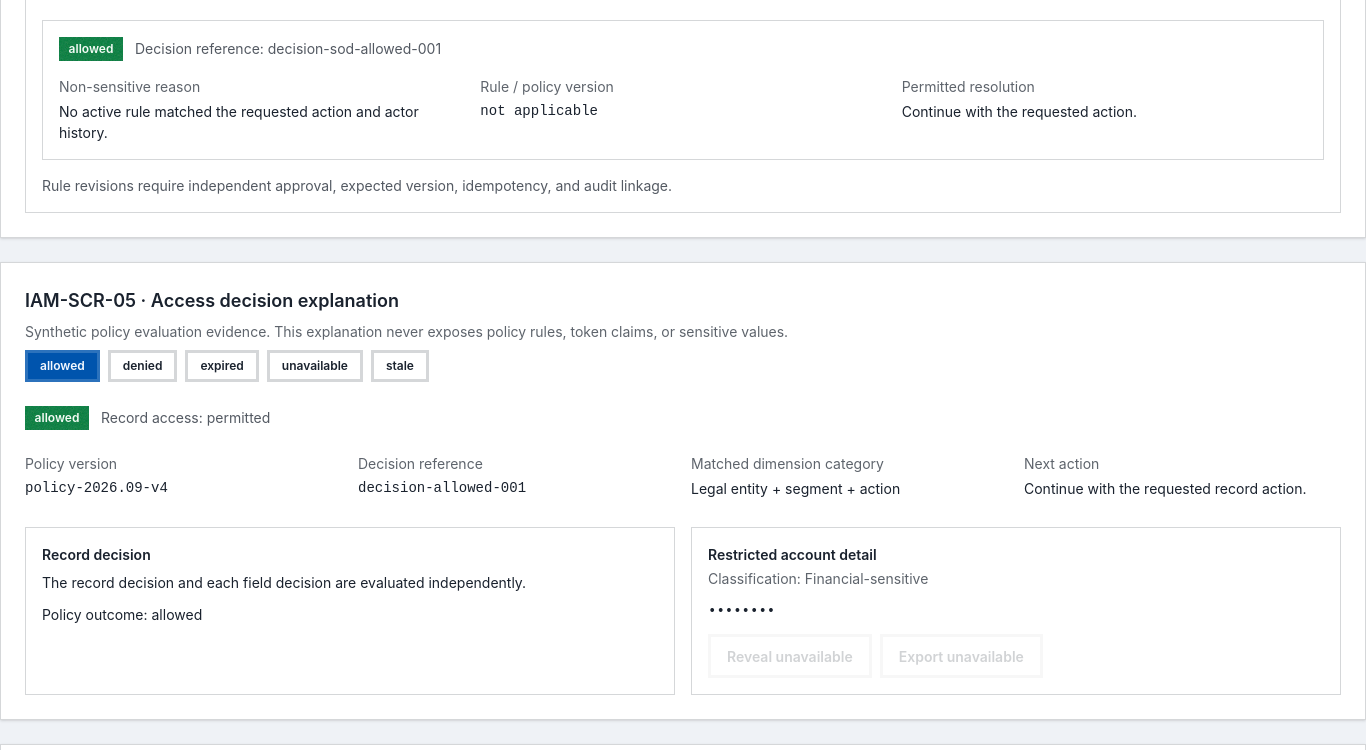
Test: identity access workspace › explains distinct scoped access outcomes and keeps field access independent
The width and height of the screenshot is (1366, 750).
(page scrolled)
Expected: the heading "IAM-SCR-05 · Access decision explanation" is shown, [25,290,399,311]
Expected: the text "policy-2026.09-v4" is shown, [25,480,168,496]
Click the button "stale" at (400, 366), box [371,350,429,382]
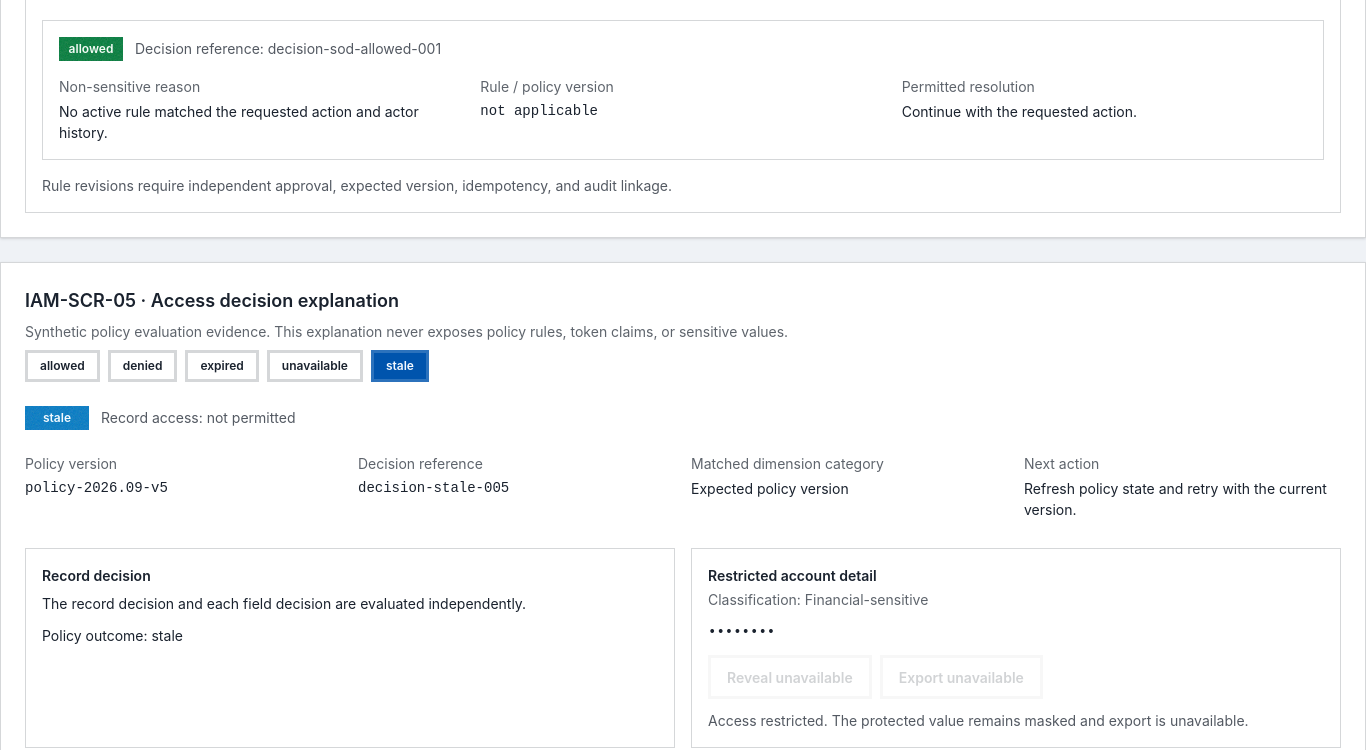
Expected: the message "stale" is shown, [25,406,89,430]
Expected: the text "Refresh policy state and retry with the current version." is shown, [1024,478,1341,520]
Click the button "expired" at (222, 366), box [185,350,259,382]
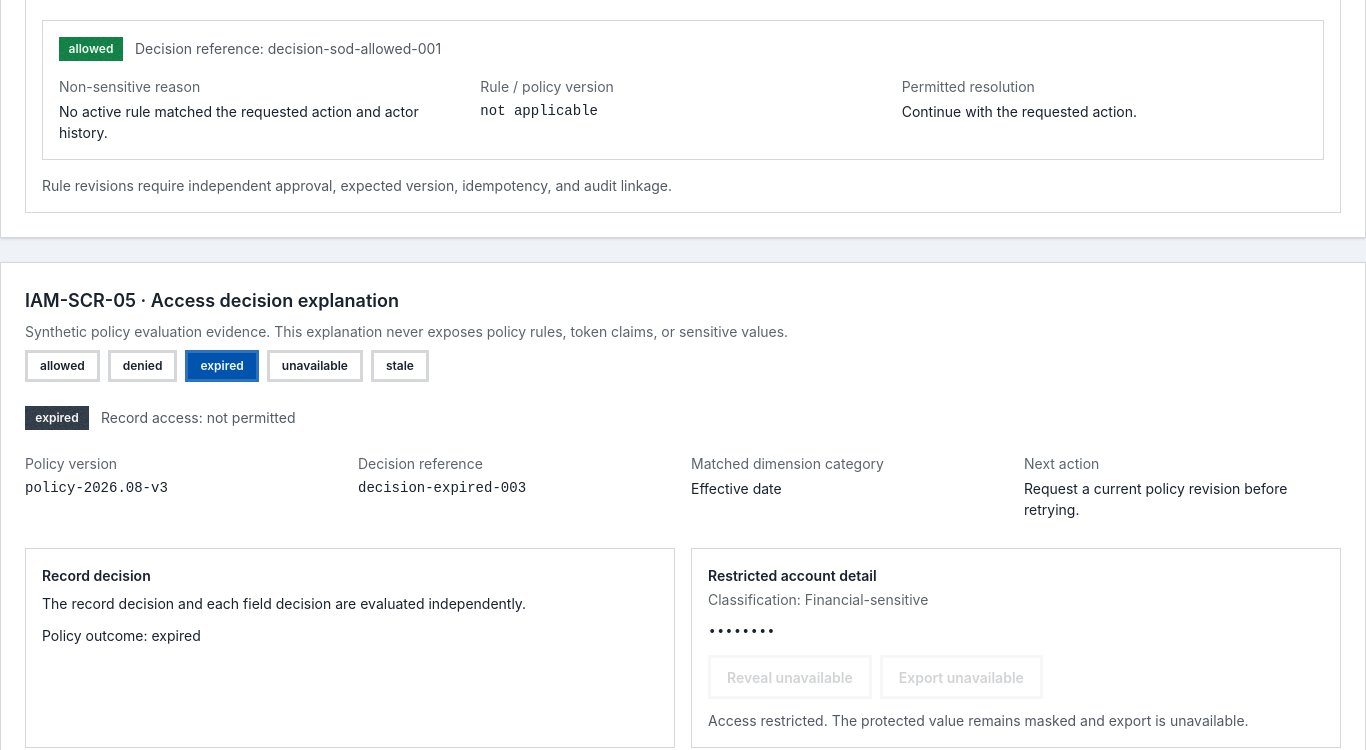
Expected: the message "expired" is shown, [25,406,89,430]
Expected: the text "Request a current policy revision before retrying." is shown, [1024,480,1287,518]
Click the button "Reveal unavailable" at (790, 677), box [708,655,872,699]
(page scrolled)
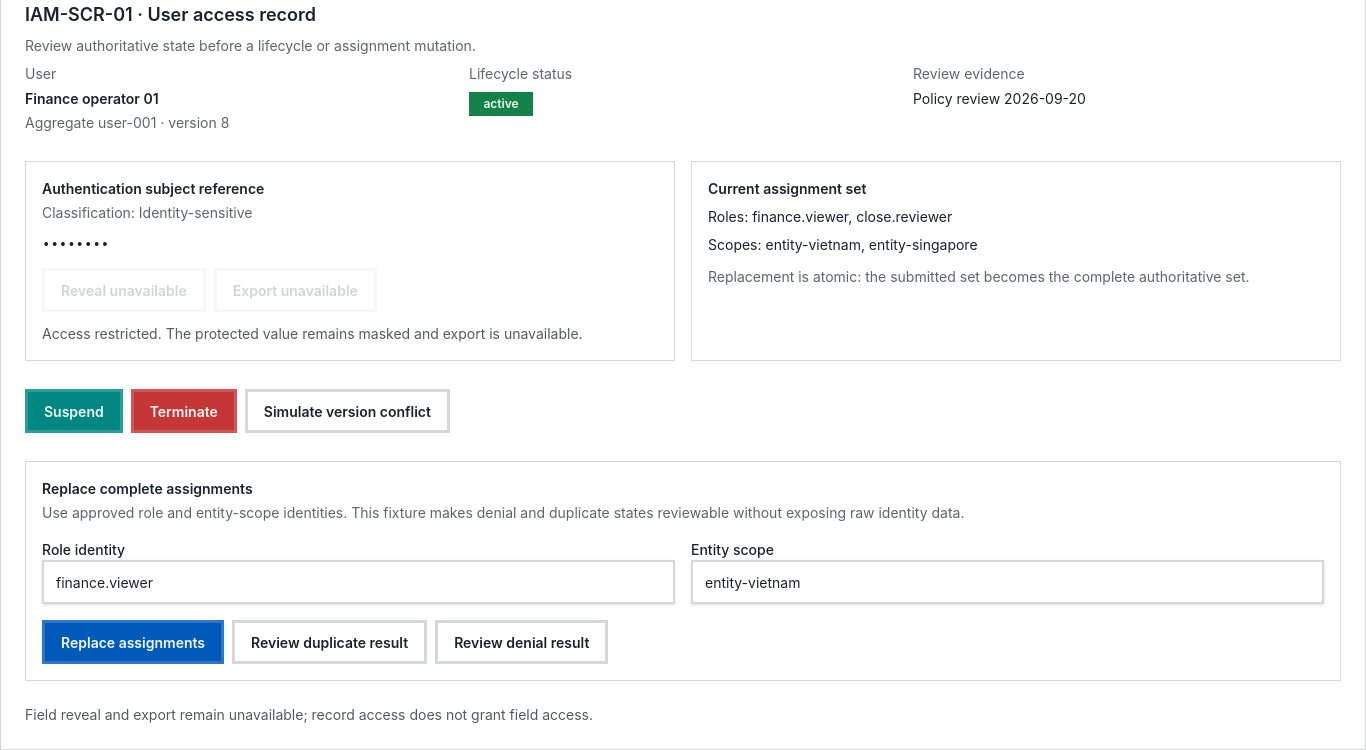
Expected: the text "Field reveal and export remain unavailable; record access does not grant field access." is shown, [25,706,593,723]
